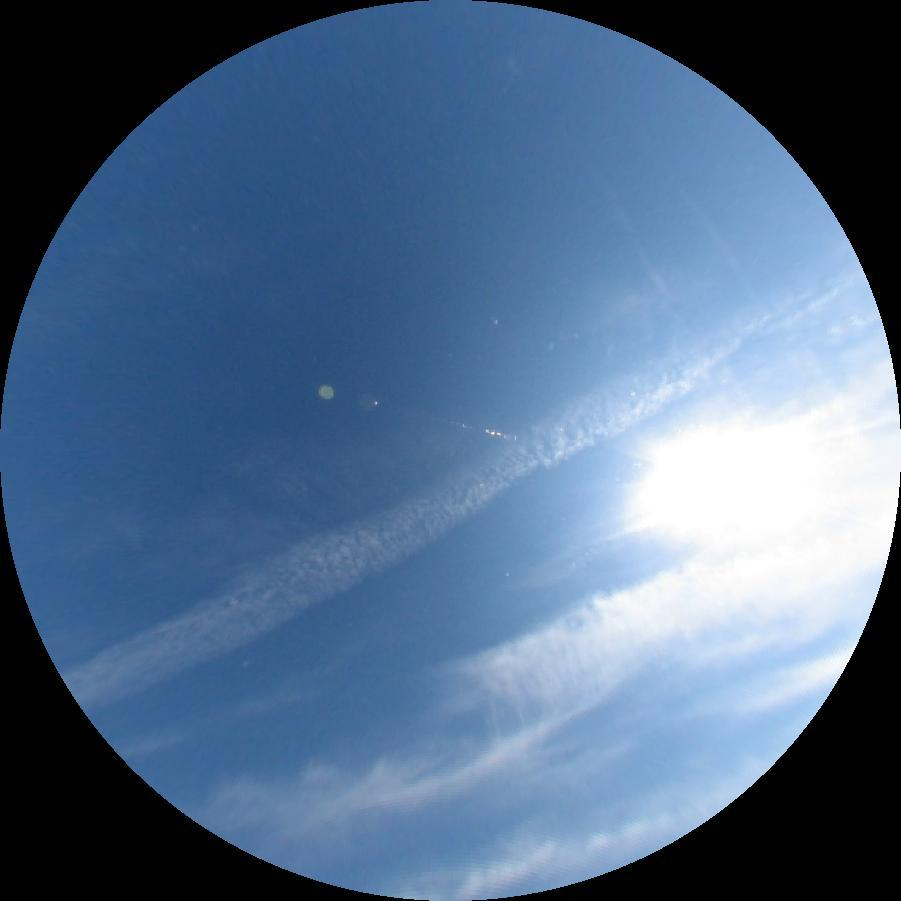contrail veryold: (60, 252, 882, 727), (604, 189, 672, 300)
sun: (644, 438, 805, 528)
unknow: (678, 184, 761, 301)
